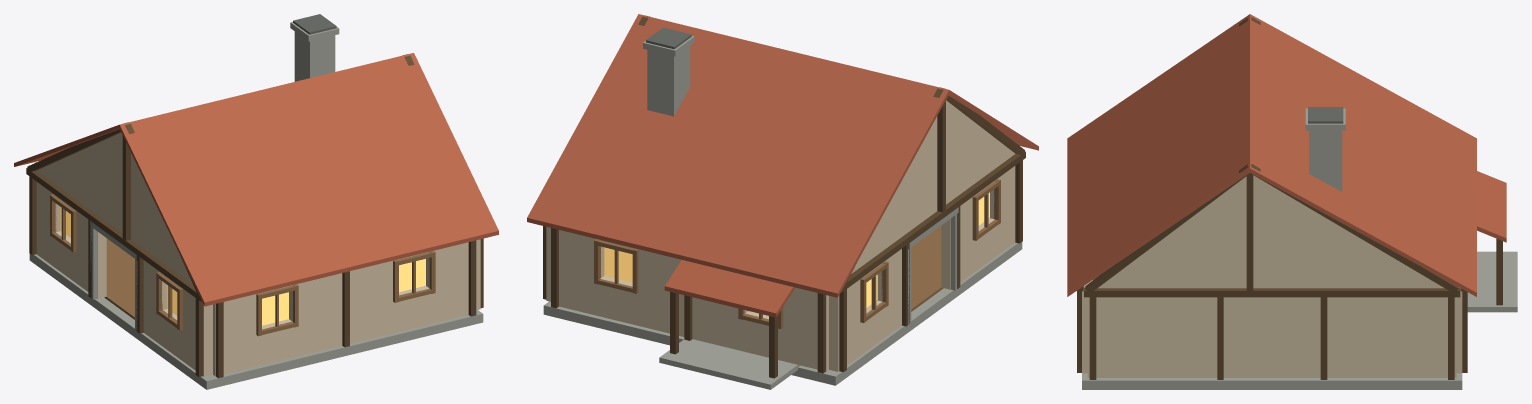
Rendered from HealingHouse_V1.fbx.
3 views of the same model, side by side, from view 1: azimuth 30°, elevation 25°; view 2: azimuth 150°, elevation 25°; view 3: azimuth 270°, elevation 25° (orthographic). The views are drawn at different scales.
Parts seen in each view (by area): view 1: HH_Roof_Main, HH_Walls_CameraSide, HH_Walls_Front, HH_Gable_Front, HH_Timber_Front, HH_Foundation, HH_WindowFrames_CameraSide, HH_Chimney, HH_Timber_CameraSide, HH_WindowFrames_Front, HH_Floor, HH_Glass_CameraSide (+2 smaller); view 2: HH_Roof_Main, HH_Walls, HH_Walls_Front, HH_Gable_Front, HH_Timber_Front, HH_Foundation, HH_Roof_Porch, HH_PorchFloor, HH_Chimney, HH_WindowFrames_Front, HH_Timber, HH_Floor (+6 smaller); view 3: HH_Roof_Main, HH_Walls, HH_Gable_Rear, HH_Timber, HH_Foundation, HH_PorchFloor, HH_Chimney, HH_Roof_Porch, HH_ChimneyCap, HH_Walls_CameraSide, HH_Timber_Porch, HH_Timber_CameraSide.
Part boxes in pixels (bbox=[...]): HH_Roof_Main: bbox=[14, 53, 498, 306]; HH_Walls_CameraSide: bbox=[213, 242, 468, 376]; HH_Walls_Front: bbox=[36, 182, 212, 376]; HH_Gable_Front: bbox=[37, 132, 192, 284]; HH_Timber_Front: bbox=[26, 122, 202, 376]; HH_Foundation: bbox=[29, 253, 483, 389]; HH_WindowFrames_CameraSide: bbox=[256, 251, 435, 336]; HH_Chimney: bbox=[290, 22, 339, 81]; HH_Timber_CameraSide: bbox=[216, 240, 476, 378]; HH_WindowFrames_Front: bbox=[50, 194, 182, 330]; HH_Floor: bbox=[104, 238, 134, 319]; HH_Glass_CameraSide: bbox=[262, 259, 425, 325]; HH_Roof_Main: bbox=[527, 14, 1038, 297]; HH_Walls: bbox=[546, 227, 828, 371]; HH_Walls_Front: bbox=[829, 166, 1015, 371]; HH_Gable_Front: bbox=[851, 100, 1015, 273]; HH_Timber_Front: bbox=[839, 87, 1025, 372]; HH_Foundation: bbox=[543, 242, 1022, 385]; HH_Roof_Porch: bbox=[664, 260, 795, 317]; HH_PorchFloor: bbox=[659, 339, 800, 389]; HH_Chimney: bbox=[643, 35, 694, 116]; HH_WindowFrames_Front: bbox=[860, 179, 1000, 322]; HH_Timber: bbox=[543, 15, 825, 373]; HH_Floor: bbox=[911, 226, 943, 311]; HH_Roof_Main: bbox=[1067, 14, 1476, 296]; HH_Walls: bbox=[1087, 287, 1462, 377]; HH_Gable_Rear: bbox=[1098, 175, 1444, 288]; HH_Timber: bbox=[1084, 164, 1467, 379]; HH_Foundation: bbox=[1082, 373, 1462, 389]; HH_PorchFloor: bbox=[1467, 251, 1517, 312]; HH_Chimney: bbox=[1305, 108, 1345, 191]; HH_Roof_Porch: bbox=[1477, 171, 1506, 242]; HH_ChimneyCap: bbox=[1308, 107, 1343, 123]; HH_Walls_CameraSide: bbox=[1082, 280, 1092, 373]; HH_Timber_Porch: bbox=[1496, 238, 1502, 305]; HH_Timber_CameraSide: bbox=[1077, 286, 1083, 372].
Bounding box in the file's own units: 12.2 × 9.9 × 7.38.
